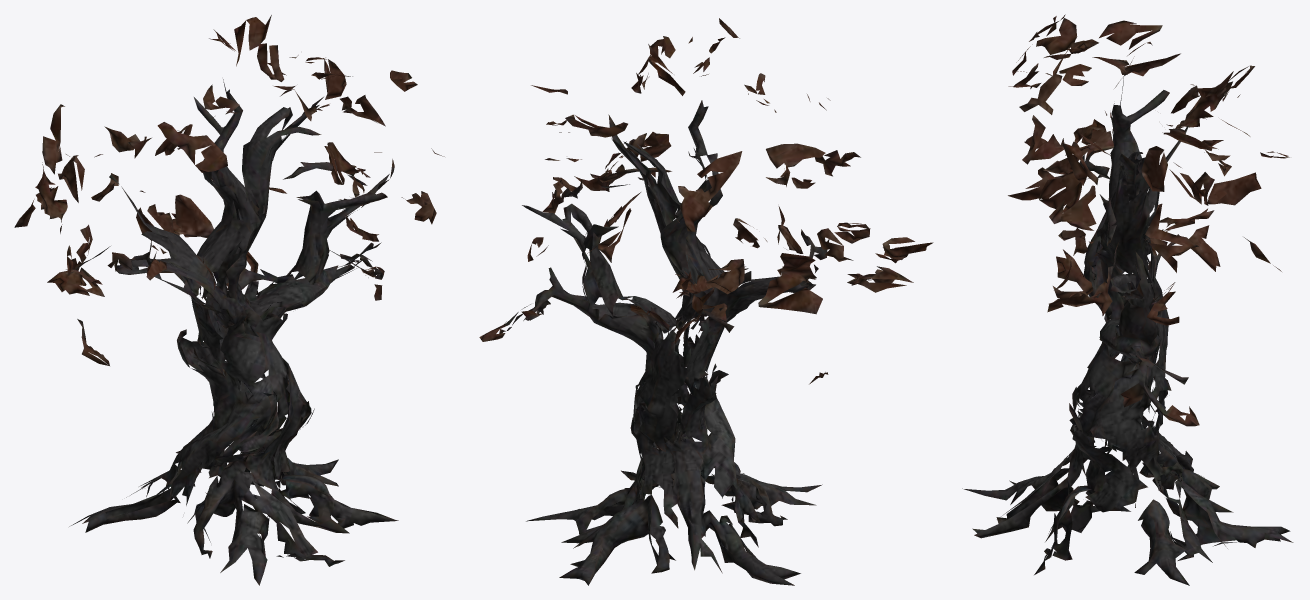
Rendered from arvore_brasa_adulta.glb.
The picture shows the model from 3 angles, left to right: view 1: azimuth 30°, elevation 25°; view 2: azimuth 150°, elevation 25°; view 3: azimuth 270°, elevation 25°; orthographic projection. The views are drawn at different scales.
Parts seen in each view (by area): view 1: geometry_0.003; view 2: geometry_0.003; view 3: geometry_0.003.
Boxes of the visible parts, bbox=[...] form: geometry_0.003: bbox=[14, 15, 444, 585]; geometry_0.003: bbox=[479, 18, 933, 585]; geometry_0.003: bbox=[962, 14, 1293, 585].
Size of the model in its own units: 0.7869 by 0.9549 by 0.5679.
1 material, 1 textured.
